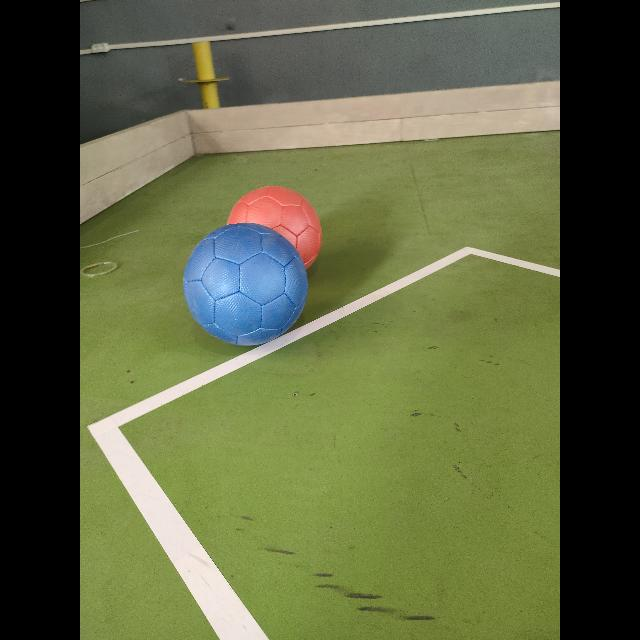B: (183, 222, 307, 344)
R: (228, 186, 322, 266)
